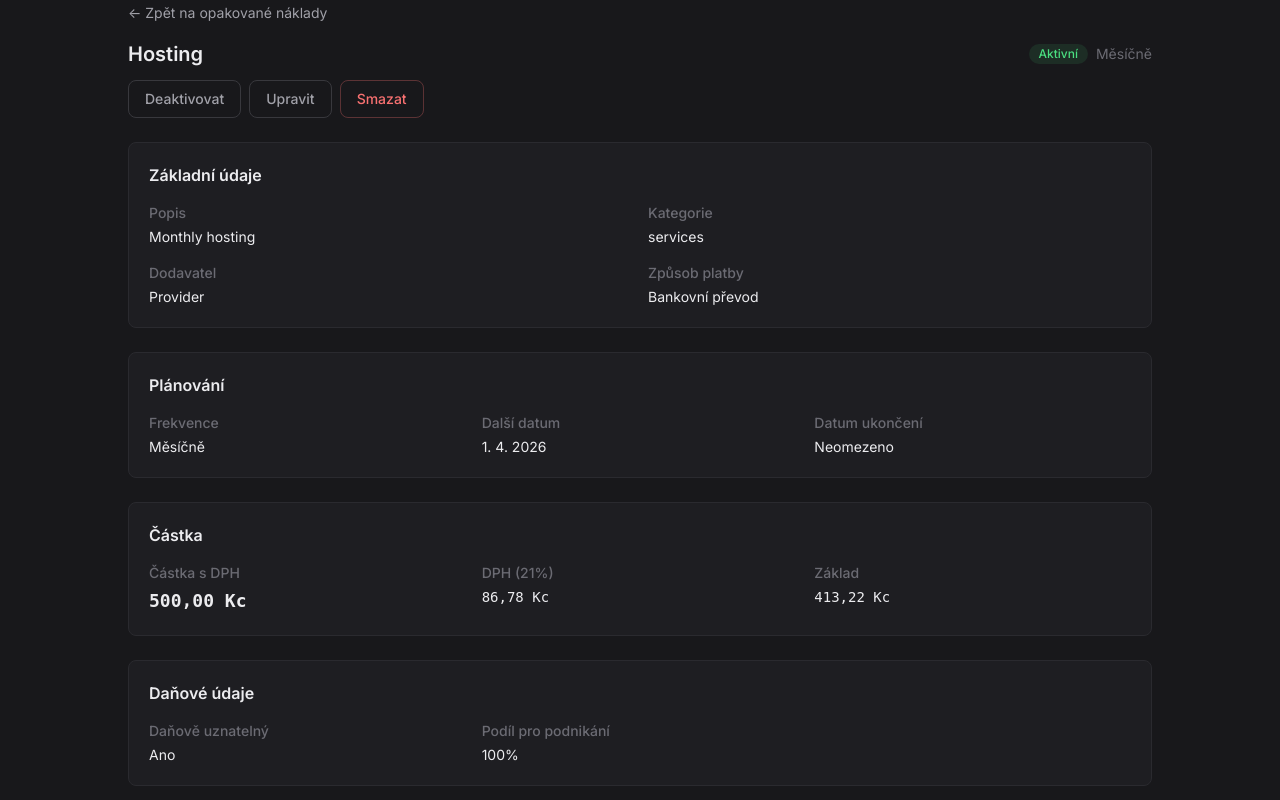
Scenario: Recurring expense detail page › edit button switches to form
Click the button "Upravit". click: (290, 99)
box: top-left (249, 80), bottom-right (332, 118)
(page scrolled)
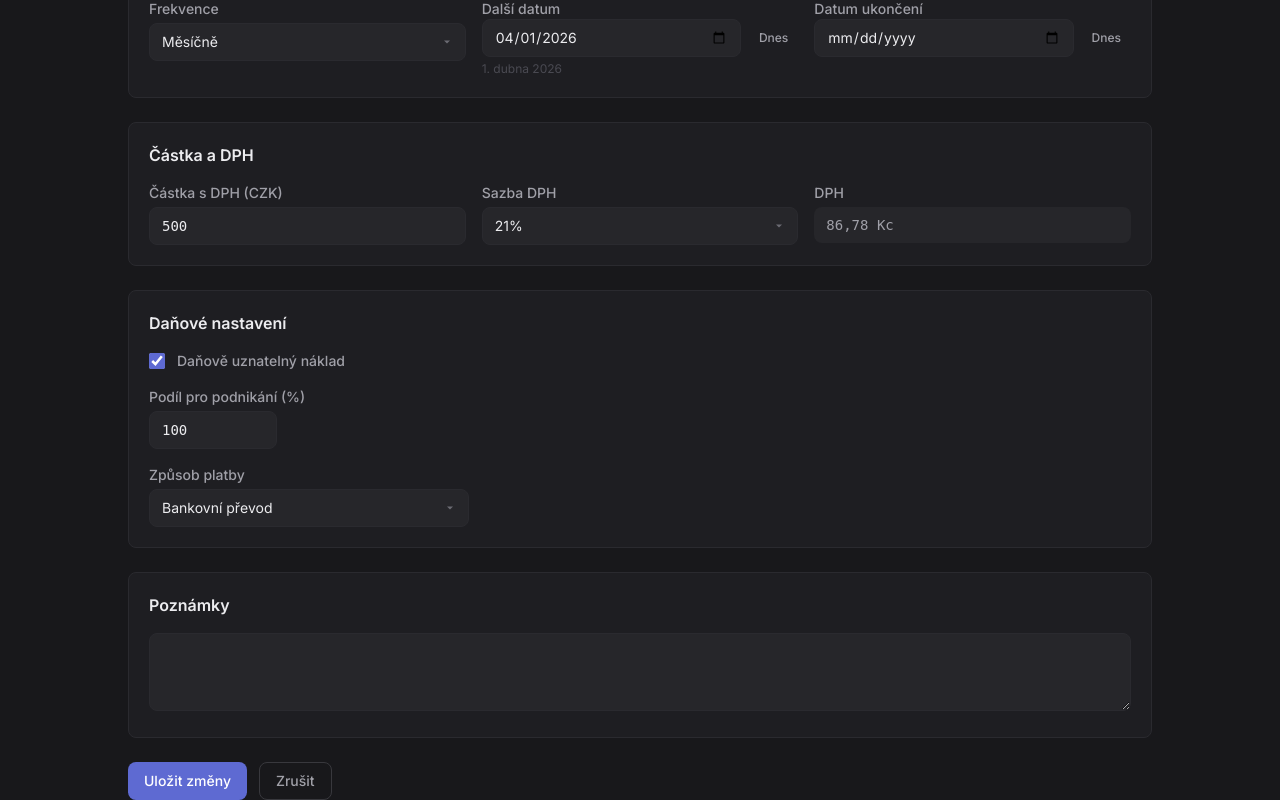
Expected: the button "Uložit změny" is shown, top-left (128, 762), bottom-right (247, 799)
Expected: the button "Zrušit" is shown, top-left (259, 762), bottom-right (332, 799)
